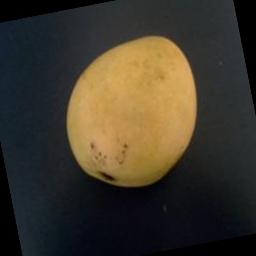Mango Ripe: (34, 10, 218, 209)
